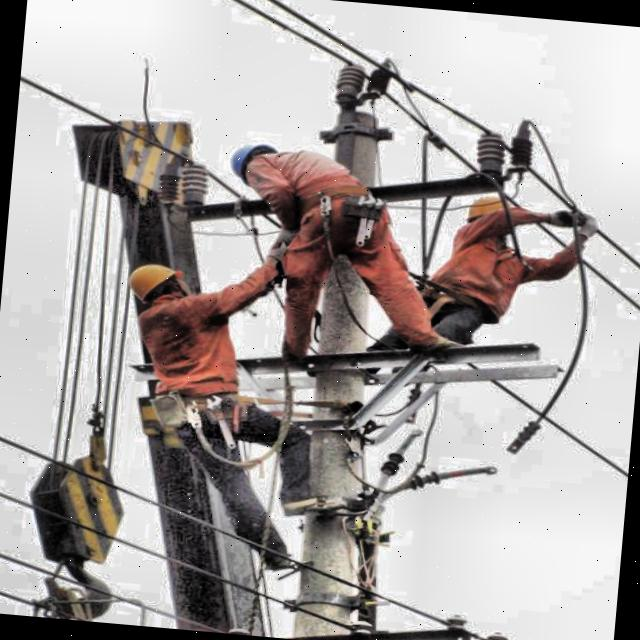helmet: (114, 257, 203, 316), (464, 192, 524, 250), (226, 138, 286, 186)
